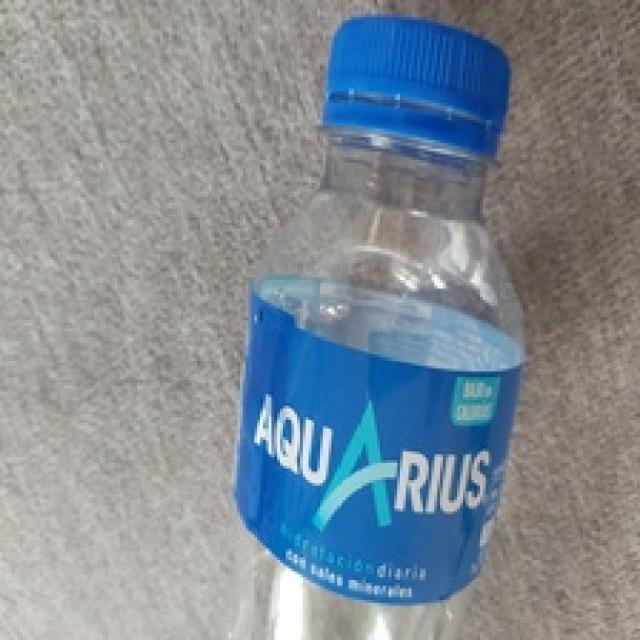Plastic: (230, 12, 529, 640)
